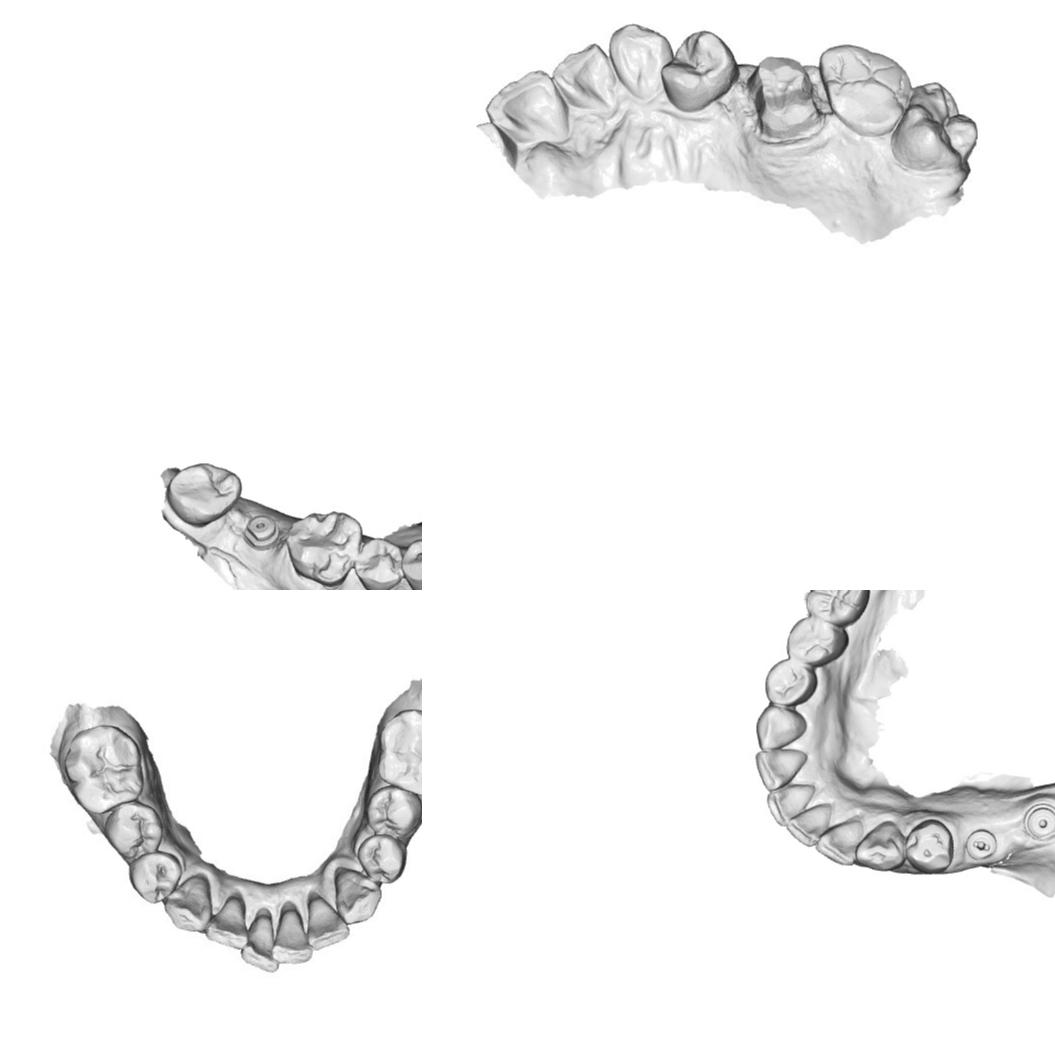canine: (608, 19, 671, 103), (163, 874, 218, 933), (331, 866, 383, 924), (854, 820, 908, 872), (755, 704, 808, 752)
crown: (745, 51, 821, 144)
implant: (240, 513, 281, 548), (1021, 801, 1055, 843)
implant_minus: (965, 828, 998, 860)
incisor: (484, 66, 573, 153), (551, 40, 622, 115), (238, 914, 280, 975), (269, 910, 314, 966), (203, 898, 250, 951), (305, 897, 351, 950), (754, 748, 809, 792), (814, 818, 863, 866), (766, 782, 816, 828), (786, 802, 832, 848)
molar: (889, 79, 982, 178), (818, 39, 908, 141), (62, 723, 145, 816), (284, 510, 364, 589), (164, 461, 242, 529), (376, 706, 422, 797), (803, 590, 871, 627)
premolar: (660, 27, 739, 114), (102, 801, 166, 862), (127, 849, 182, 907), (786, 616, 849, 666), (364, 785, 422, 839), (904, 818, 955, 875), (355, 832, 408, 886), (762, 658, 818, 707), (352, 537, 403, 590), (401, 537, 422, 590)
